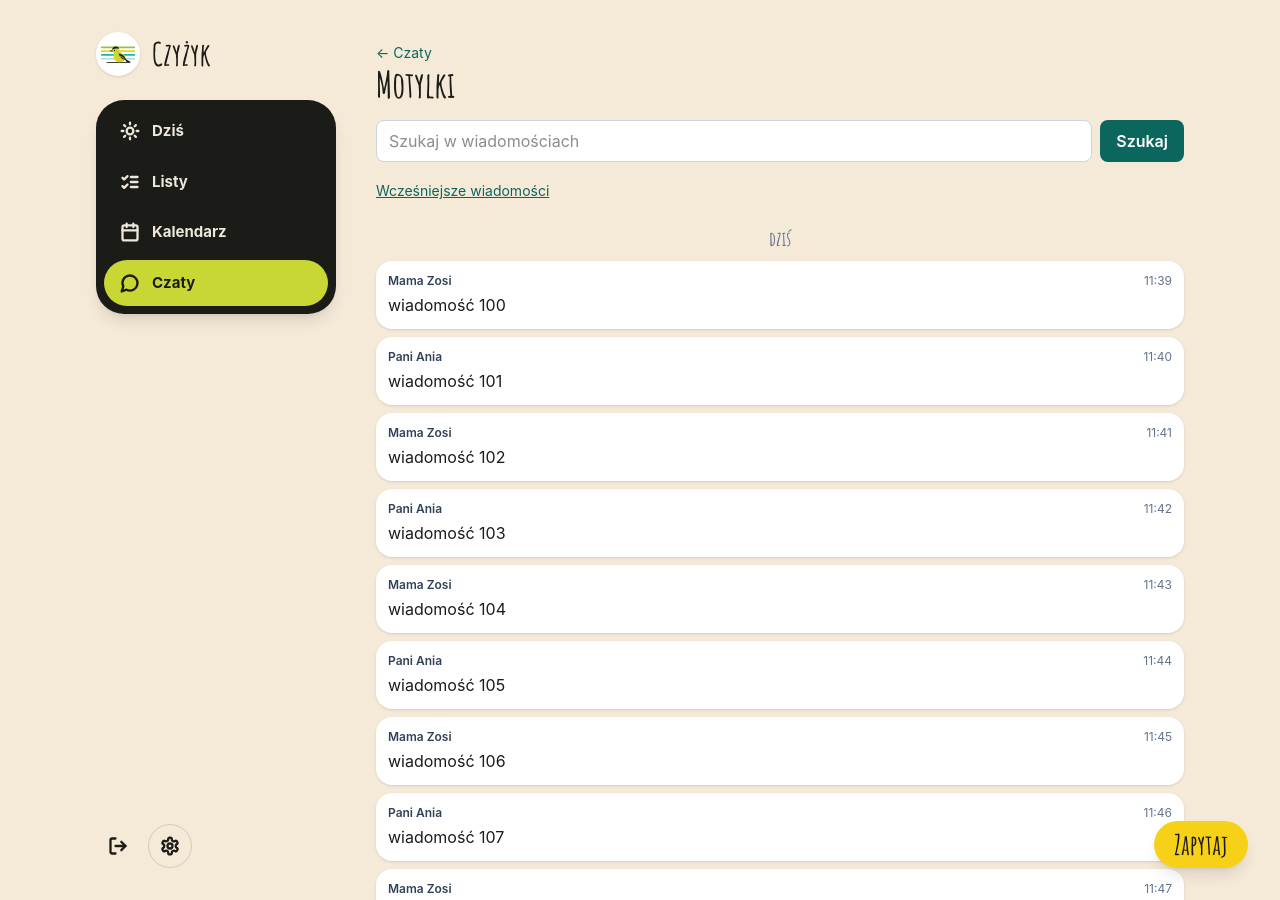
Czaty › historia: 20 najnowszych, potem 40, najstarsze u góry
The image size is (1280, 900).
Expected: the heading "Motylki" is shown, [376, 61, 455, 107]
Expected: the text "wiadomość 100" is shown, [388, 295, 506, 315]
Click the button "Wcześniejsze wiadomości". click: (463,191)
box: [376, 181, 549, 201]
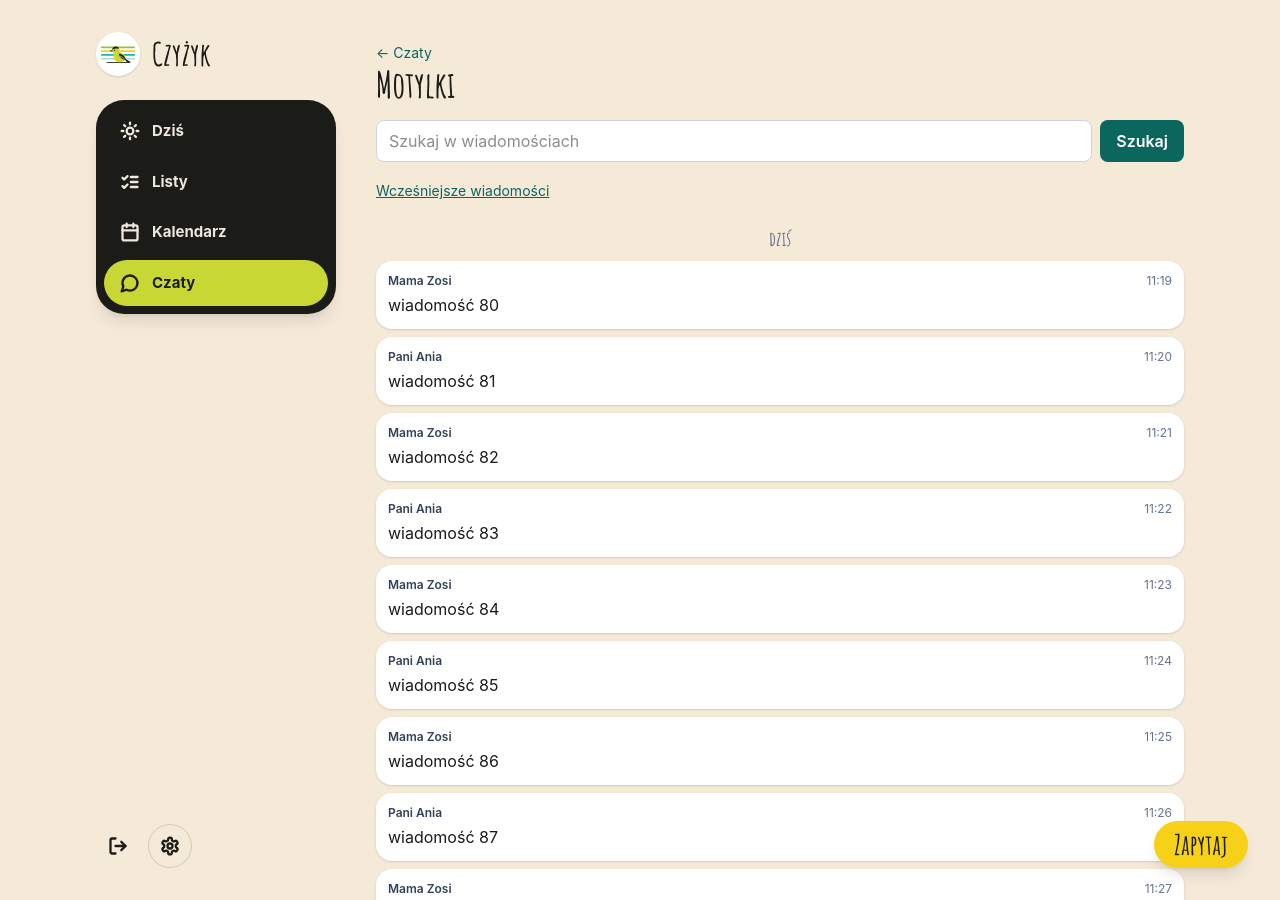
Now the text "wiadomość 80" is shown, box [388, 295, 499, 315]
Now the text "wiadomość 80" is shown 40 times
